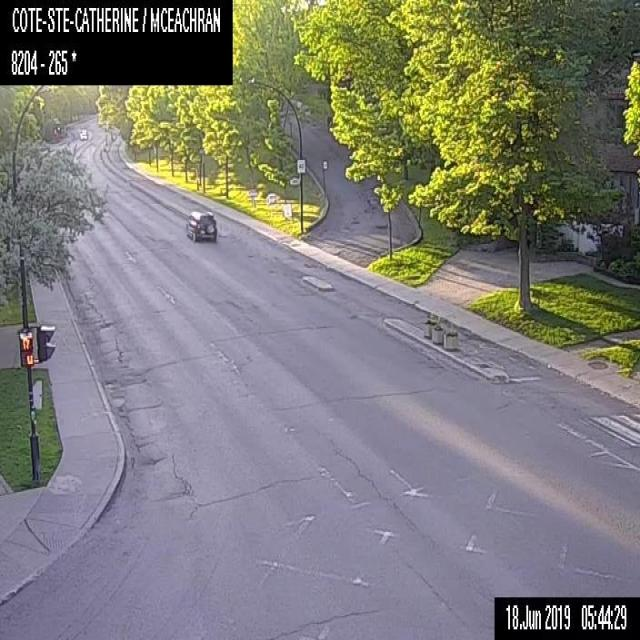vehicle: (186, 210, 217, 242), (80, 128, 88, 138)
